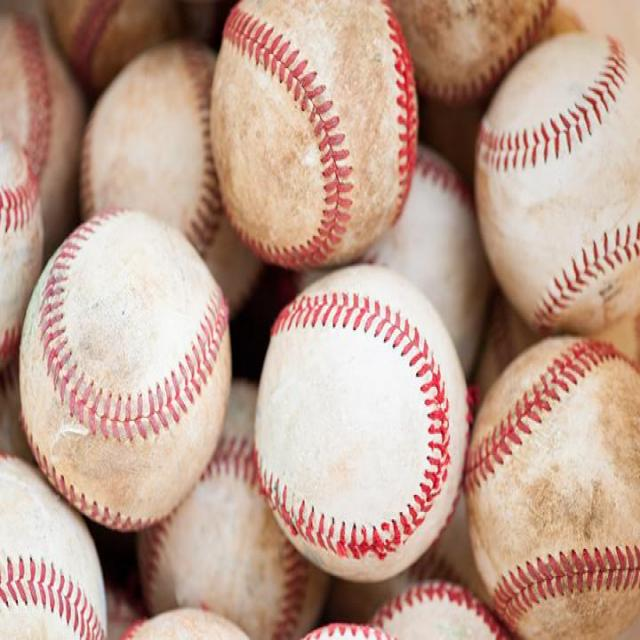baseball: (253, 262, 468, 582), (22, 206, 235, 528), (210, 4, 420, 265), (474, 29, 628, 332), (474, 334, 628, 635), (80, 48, 216, 252)
